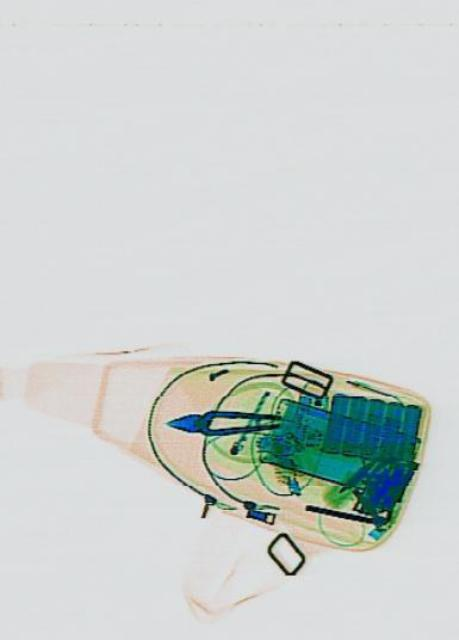Scissors: (164, 381, 291, 461)
